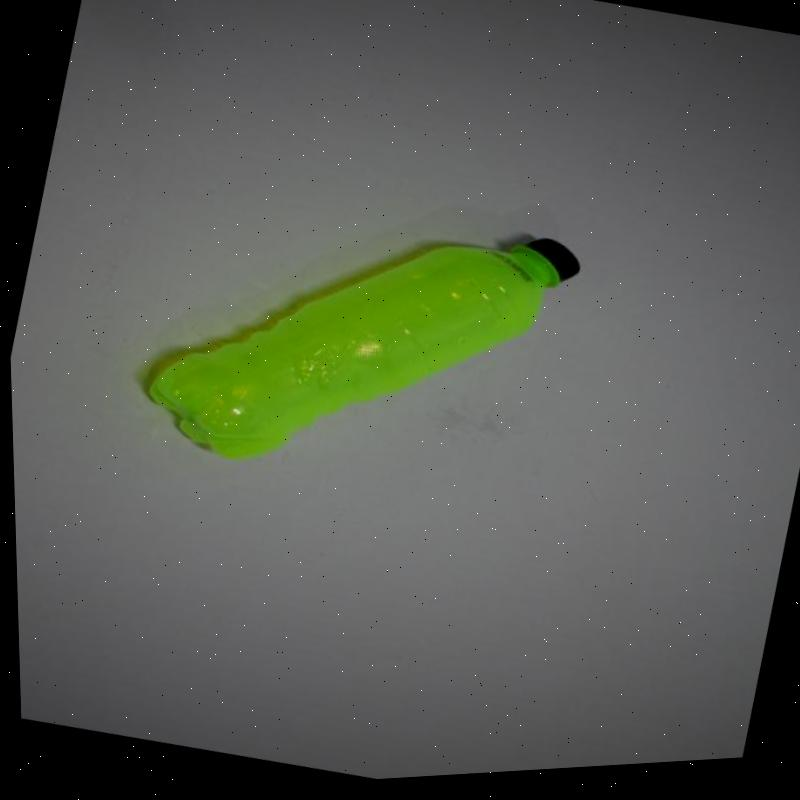botella: (127, 158, 593, 535)
